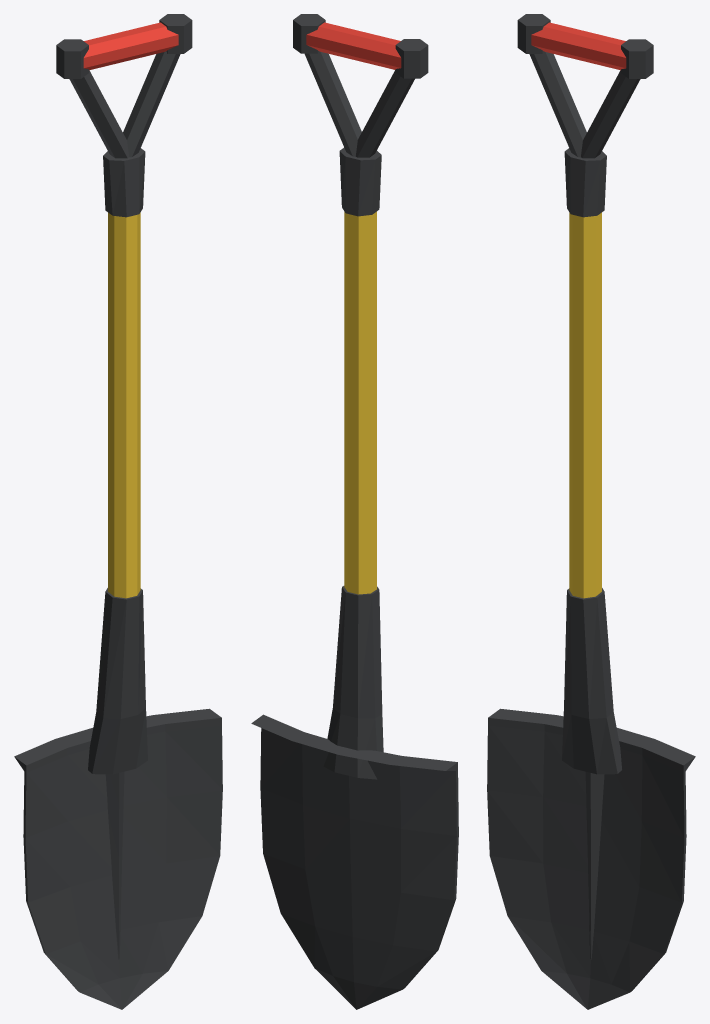
Rendered from shovel.glb.
3 renders of one model, left to right at view 1: azimuth 30°, elevation 25°; view 2: azimuth 150°, elevation 25°; view 3: azimuth 330°, elevation 25°, orthographic.
Parts seen in each view (by area): view 1: Shovel; view 2: Shovel; view 3: Shovel.
Boxes of the visible parts, x1,y1,x2,y2 form: Shovel: (14, 14, 222, 1009); Shovel: (251, 14, 458, 1009); Shovel: (487, 14, 695, 1009).
Size of the model in its own units: 0.222 by 1.05 by 0.0611.
